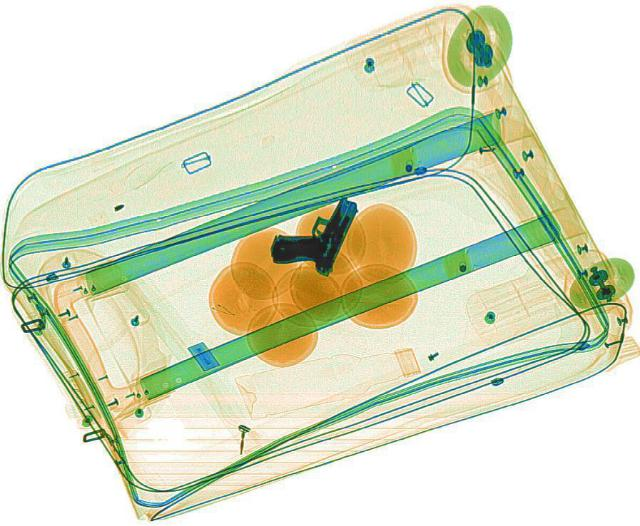Gun: (261, 184, 361, 274)
